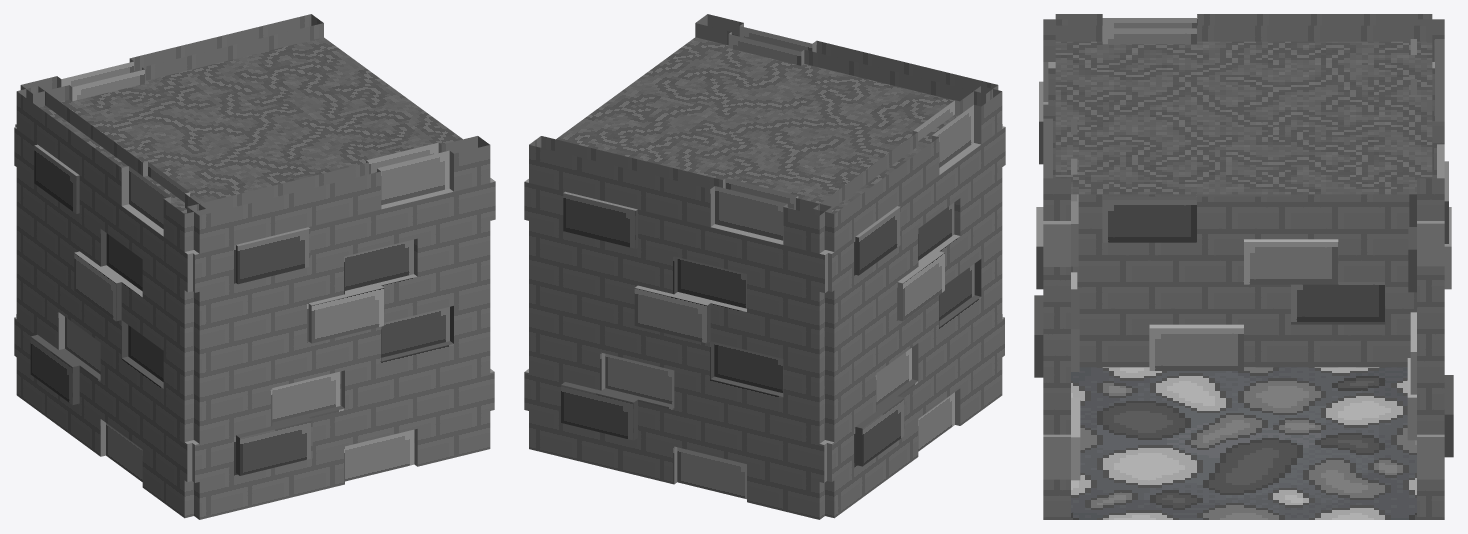
3 views of the same model, side by side, from view 1: azimuth 30°, elevation 25°; view 2: azimuth 150°, elevation 25°; view 3: azimuth 270°, elevation 25° (orthographic). The views are drawn at different scales.
Visible parts, largest first — view 1: 3W-col; view 2: 3W-col; view 3: 3W-col.
Boxes of the visible parts, bbox=[...] form: 3W-col: bbox=[14, 14, 495, 519]; 3W-col: bbox=[524, 14, 1005, 519]; 3W-col: bbox=[1034, 14, 1453, 519].
Bounding box in the file's own units: 2.15 × 2 × 2.23.
Materials: 3 (3 with a texture image).
